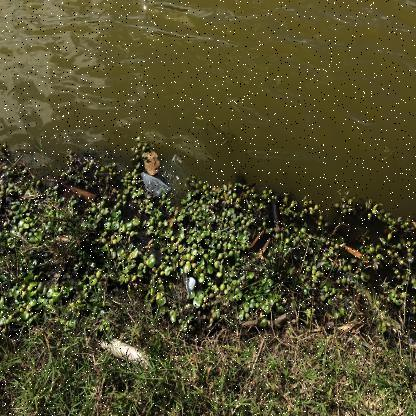other: (109, 338, 149, 370)
plastic: (142, 172, 172, 196)
